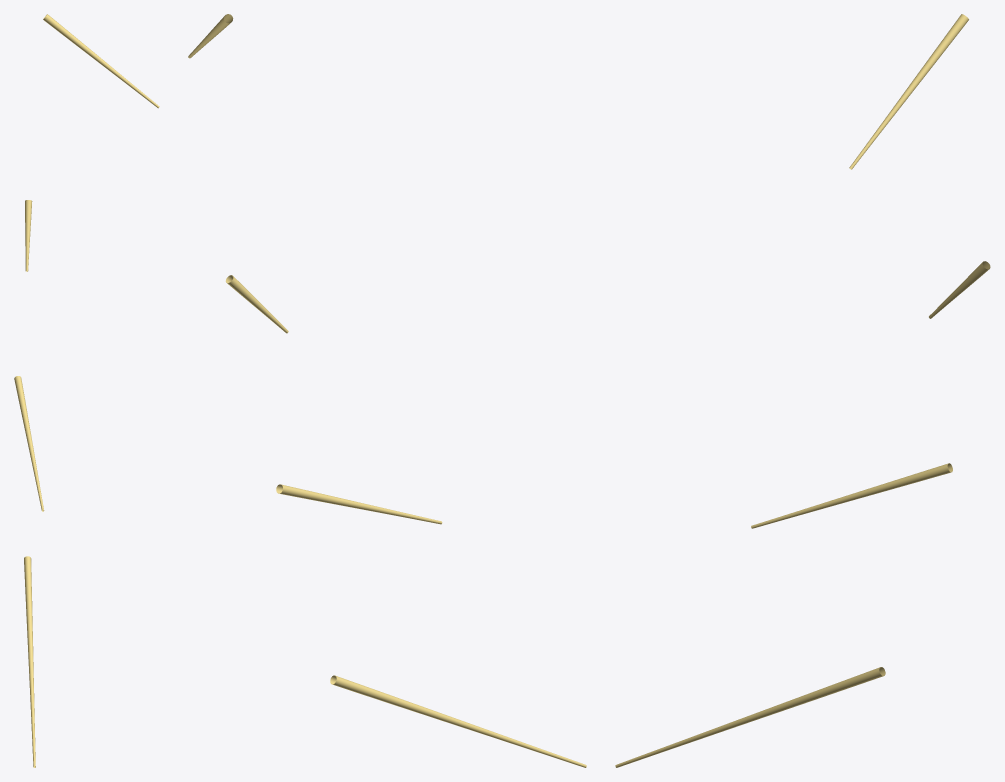
3 views of the same model, side by side, from view 1: azimuth 30°, elevation 25°; view 2: azimuth 150°, elevation 25°; view 3: azimuth 270°, elevation 25° (orthographic). The views are drawn at different scales.
Parts seen in each view (by area): view 1: ZA_b987864f1805aa2d; view 2: ZA_b987864f1805aa2d; view 3: ZA_b987864f1805aa2d.
Boxes of the visible parts, bbox=[...] form: ZA_b987864f1805aa2d: bbox=[14, 14, 159, 767]; ZA_b987864f1805aa2d: bbox=[188, 14, 586, 767]; ZA_b987864f1805aa2d: bbox=[615, 14, 990, 767].
Bounding box in the file's own units: 0.0203 × 0.0569 × 0.0229.
